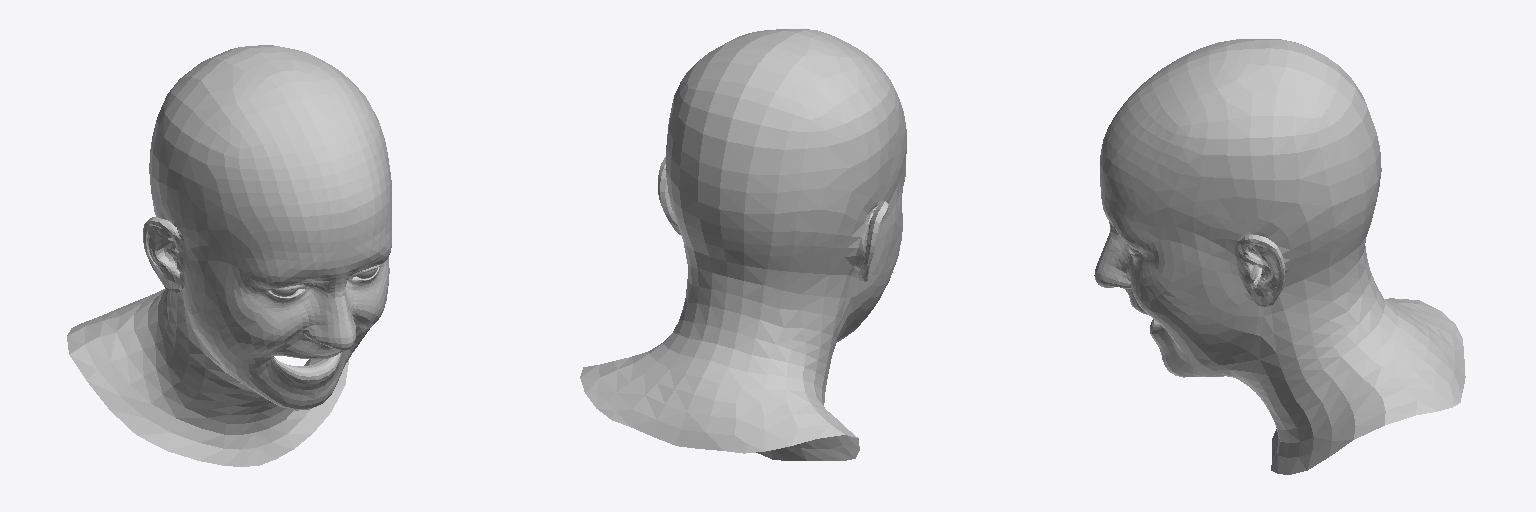
File: girlAsurg_w_HIFI3D_UV.obj
3 views of the same model, side by side, from view 1: azimuth 30°, elevation 25°; view 2: azimuth 150°, elevation 25°; view 3: azimuth 270°, elevation 25° (orthographic).
Size of the model in its own units: 0.2161 by 0.3229 by 0.2628.